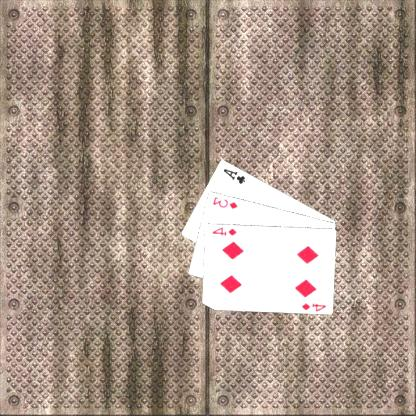3D: (211, 194, 240, 210)
4D: (300, 300, 328, 312), (211, 225, 239, 236)
AC: (222, 166, 248, 186)
